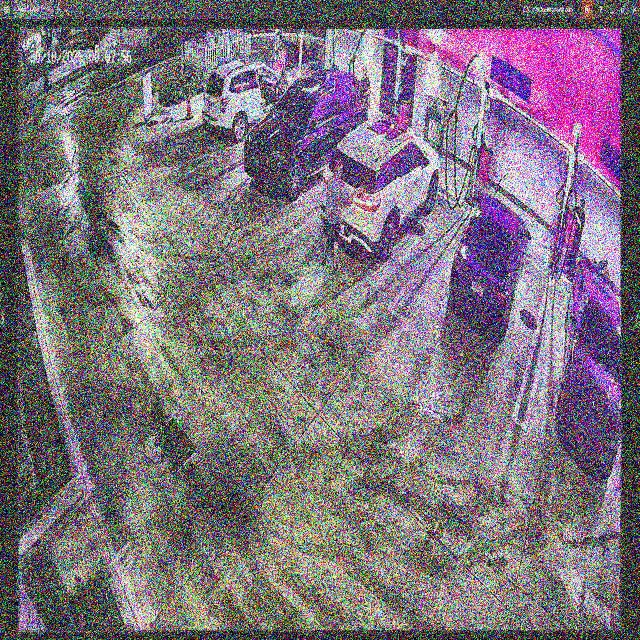Car: (322, 118, 440, 257), (245, 68, 368, 195), (450, 196, 530, 336)
